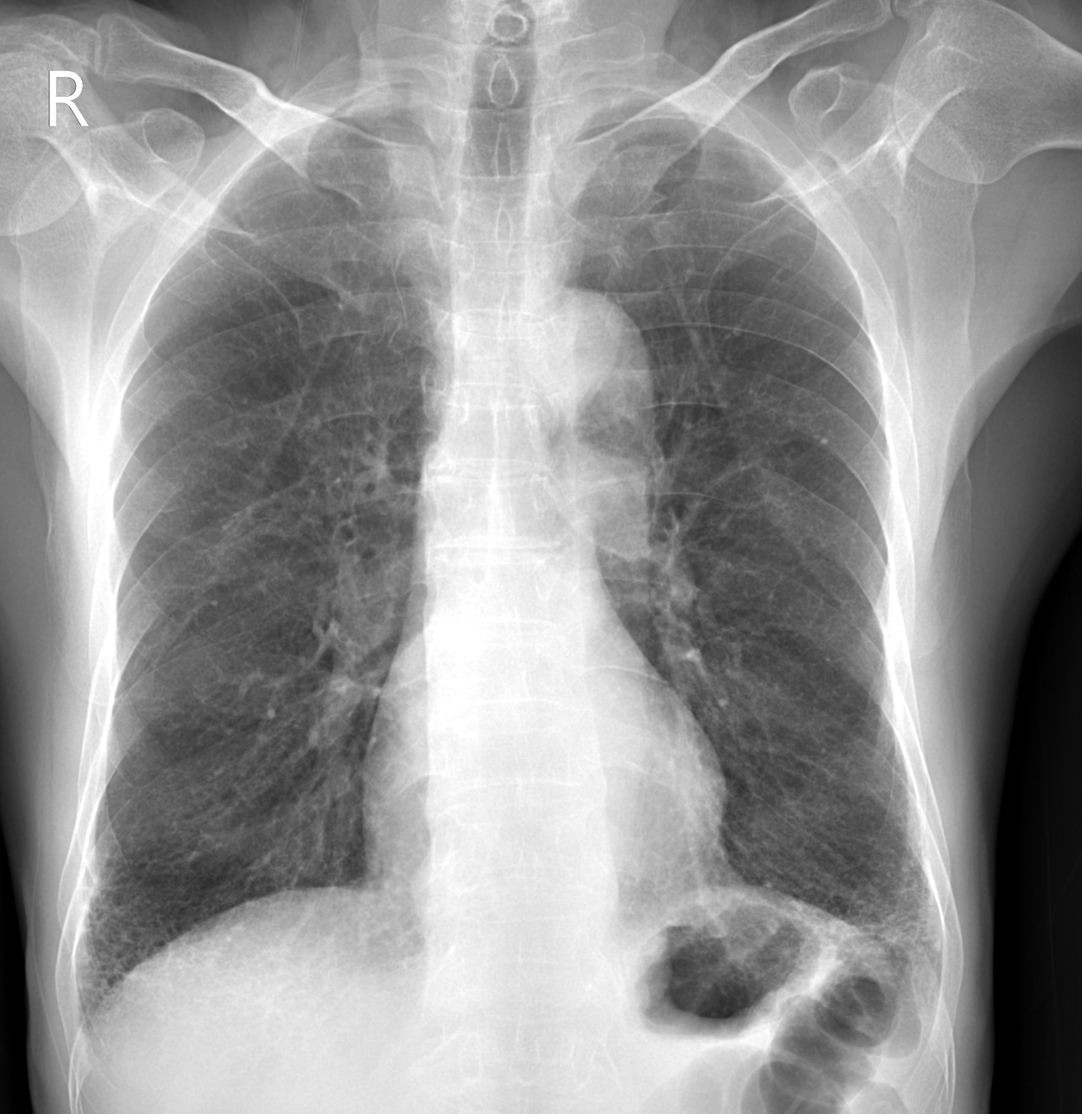Aortic enlargement: (510, 282, 658, 426)
Pleural thickening: (316, 86, 436, 131)
